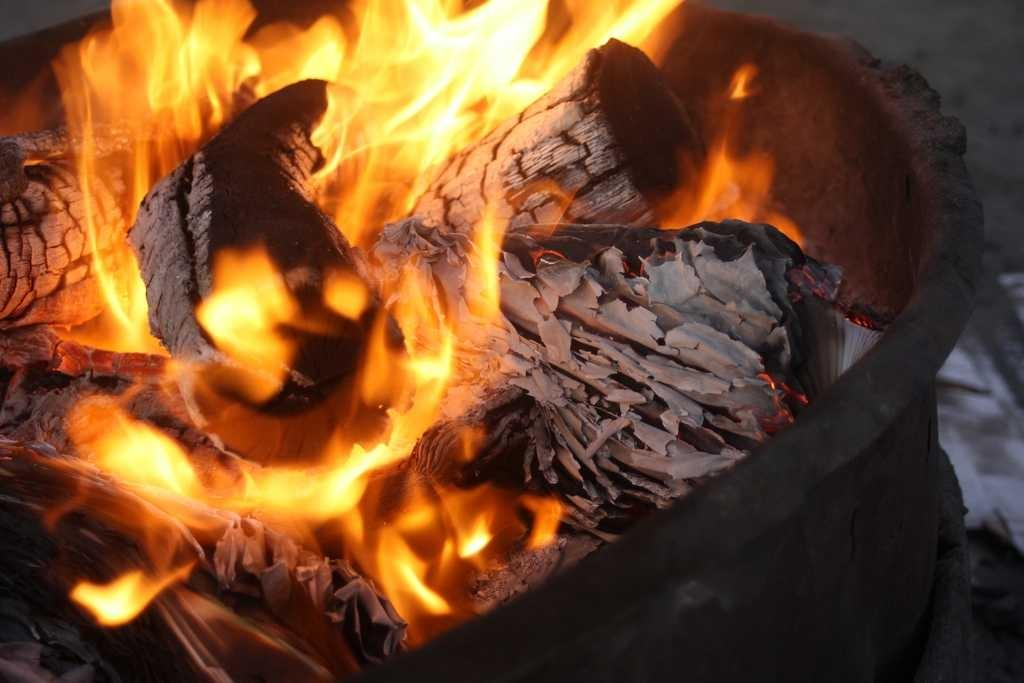fire: (83, 10, 240, 123), (367, 15, 513, 115), (252, 428, 402, 503), (82, 420, 197, 505), (407, 515, 522, 560)
